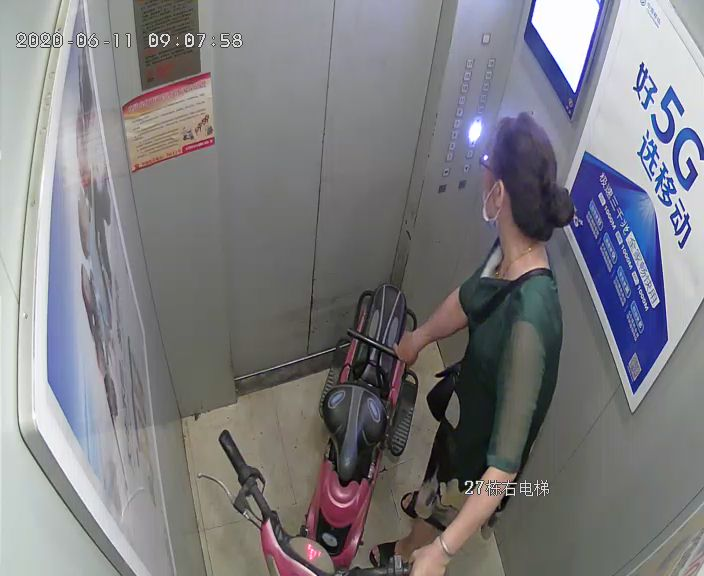Electric-bicycle: (247, 286, 411, 576)
